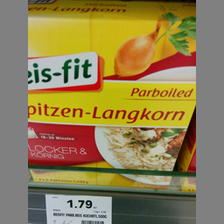rice: (28, 1, 196, 189)
